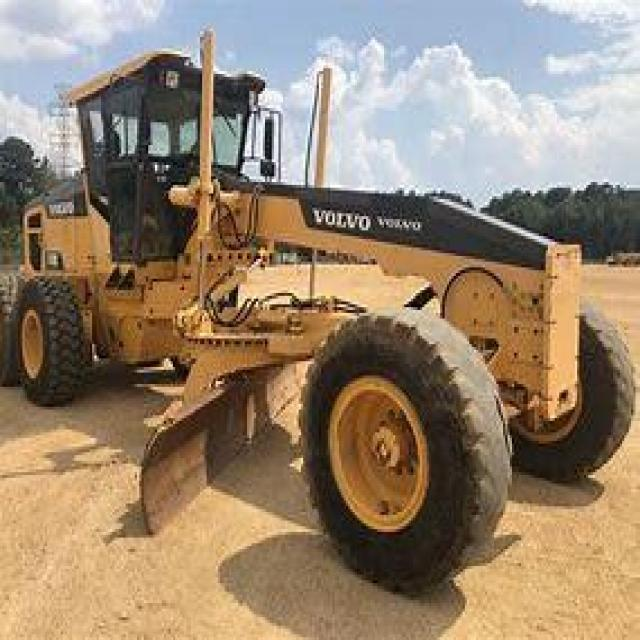Grader: (0, 37, 633, 591)
